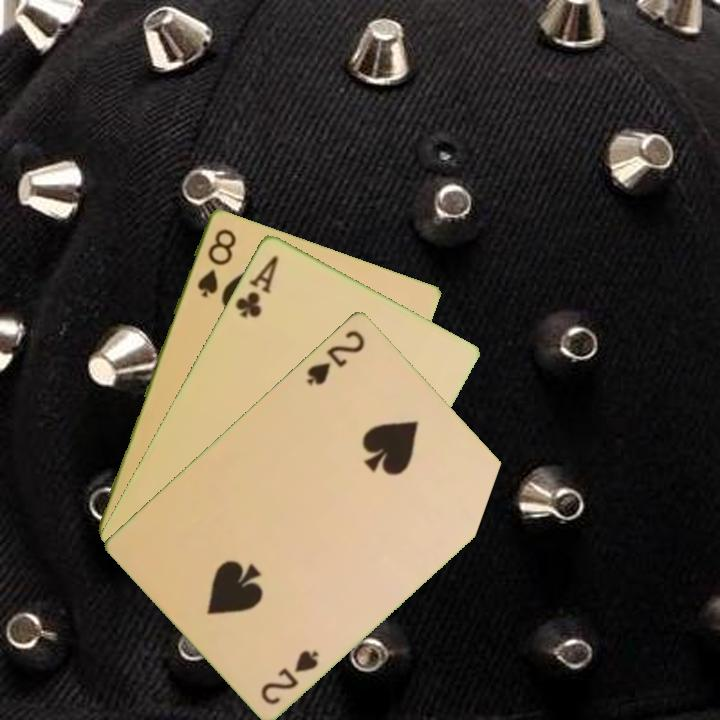2s: (302, 325, 368, 388), (257, 645, 323, 707)
8s: (193, 224, 239, 300)
Ac: (231, 250, 281, 321)
